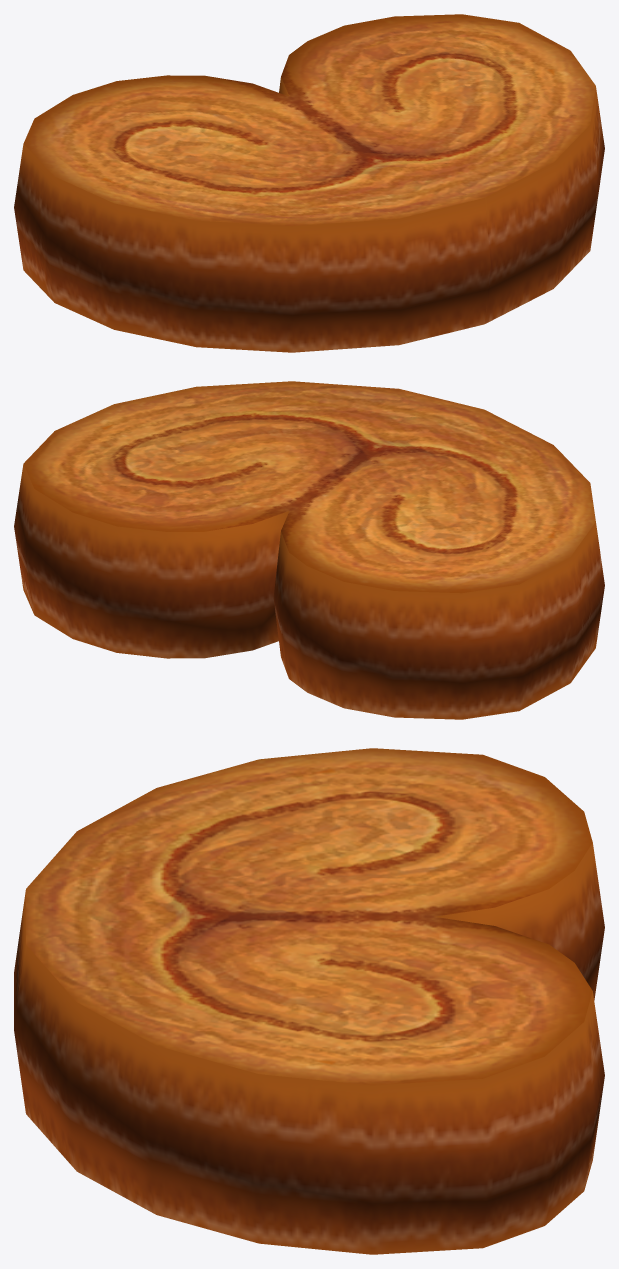
File: 009-Palmiers2.FBX
3 views of the same model, one above another, from view 1: azimuth 30°, elevation 25°; view 2: azimuth 150°, elevation 25°; view 3: azimuth 270°, elevation 25° (orthographic). The views are drawn at different scales.
Visible parts, largest first — view 1: 009-Palmiers2; view 2: 009-Palmiers2; view 3: 009-Palmiers2.
Boxes of the visible parts, <box> form: 009-Palmiers2: <box>14,14,604,352</box>; 009-Palmiers2: <box>14,381,604,719</box>; 009-Palmiers2: <box>14,748,604,1254</box>.
Bounding box in the file's own units: 16.35 × 3.72 × 11.75.
